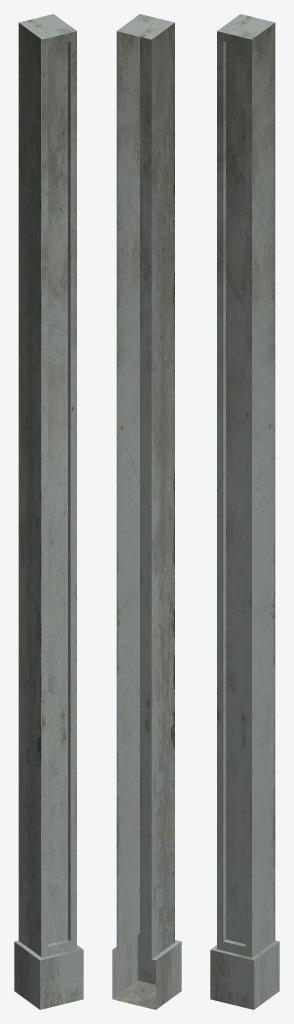
3 renders of one model, left to right at view 1: azimuth 30°, elevation 25°; view 2: azimuth 150°, elevation 25°; view 3: azimuth 330°, elevation 25°, orthographic.
Visible parts, largest first — view 1: Cube (7); view 2: Cube (7); view 3: Cube (7).
Boxes of the visible parts, x1,y1,x2,y2 form: Cube (7): [14, 14, 83, 1009]; Cube (7): [112, 14, 181, 1009]; Cube (7): [210, 14, 279, 1009].
Bounding box in the file's own units: 26.74 × 567 × 27.37.
